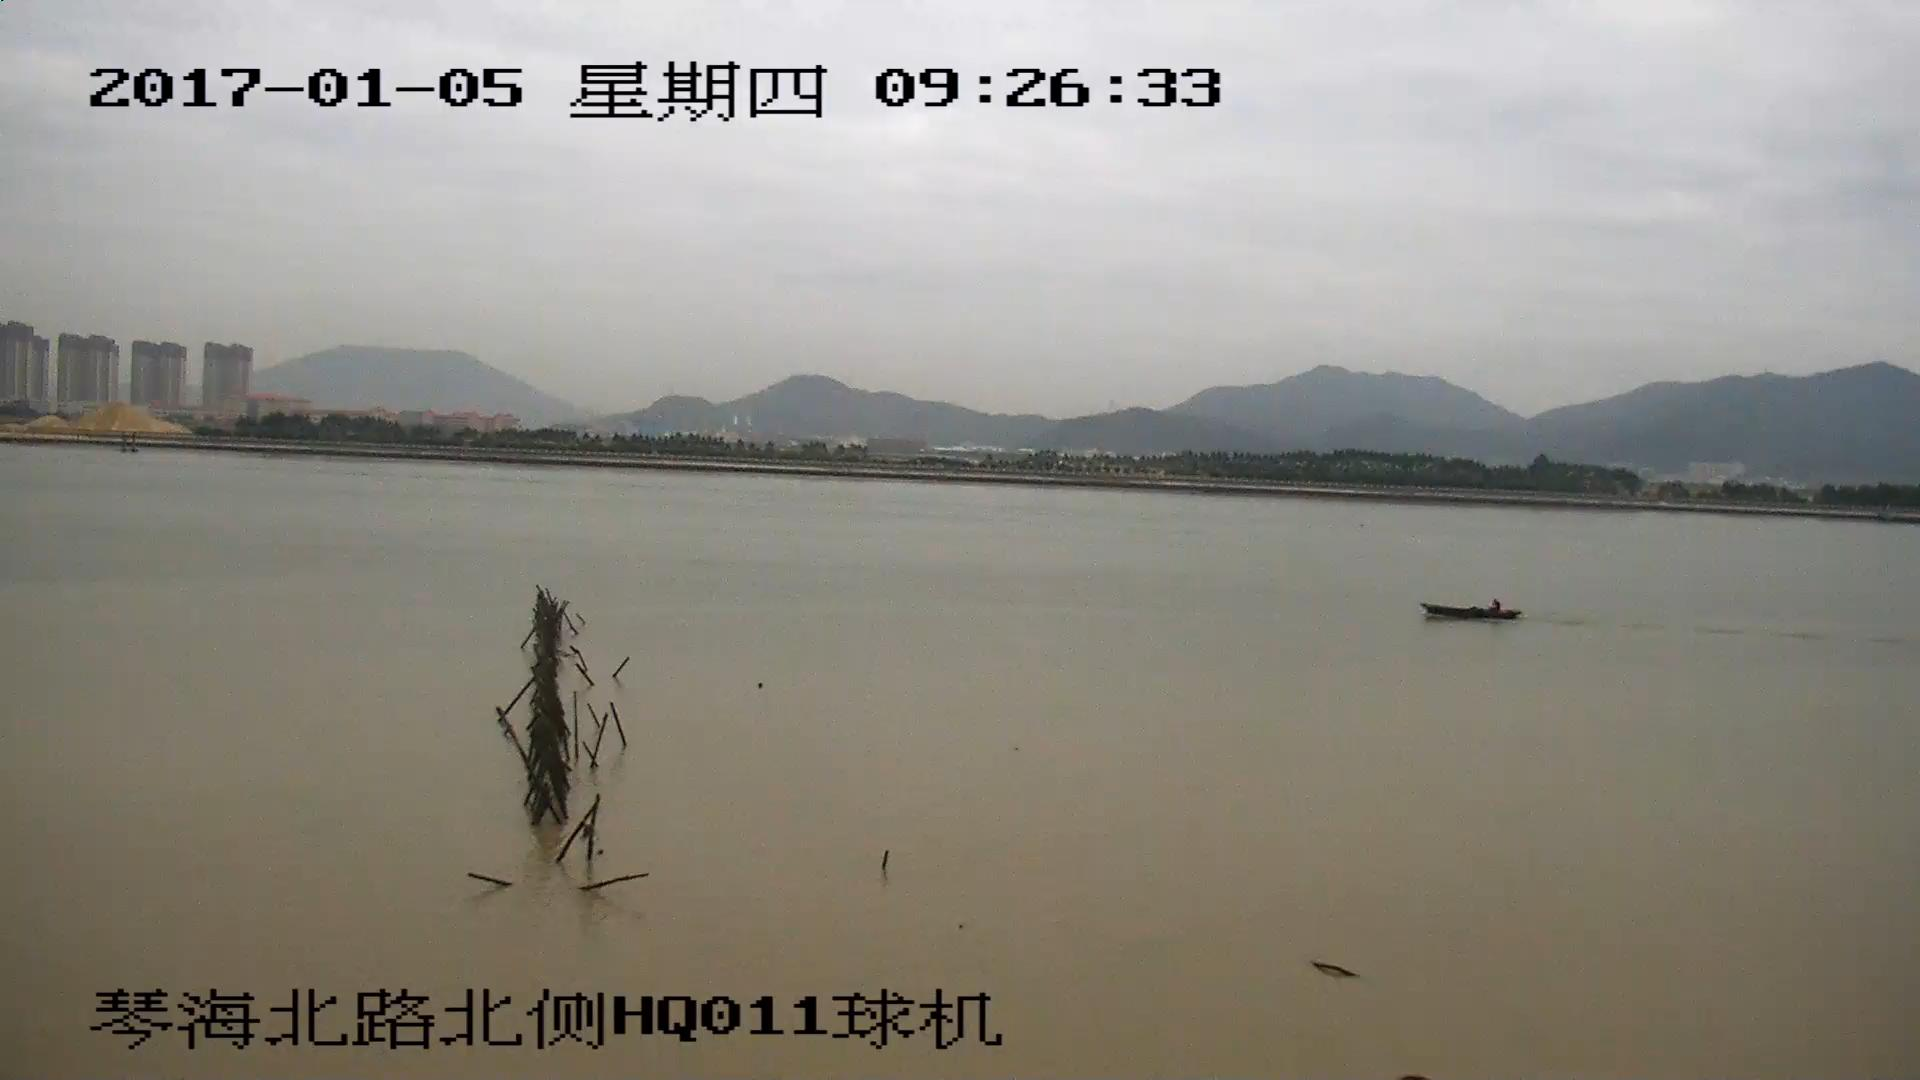fishing boat: (1424, 603, 1520, 621)
